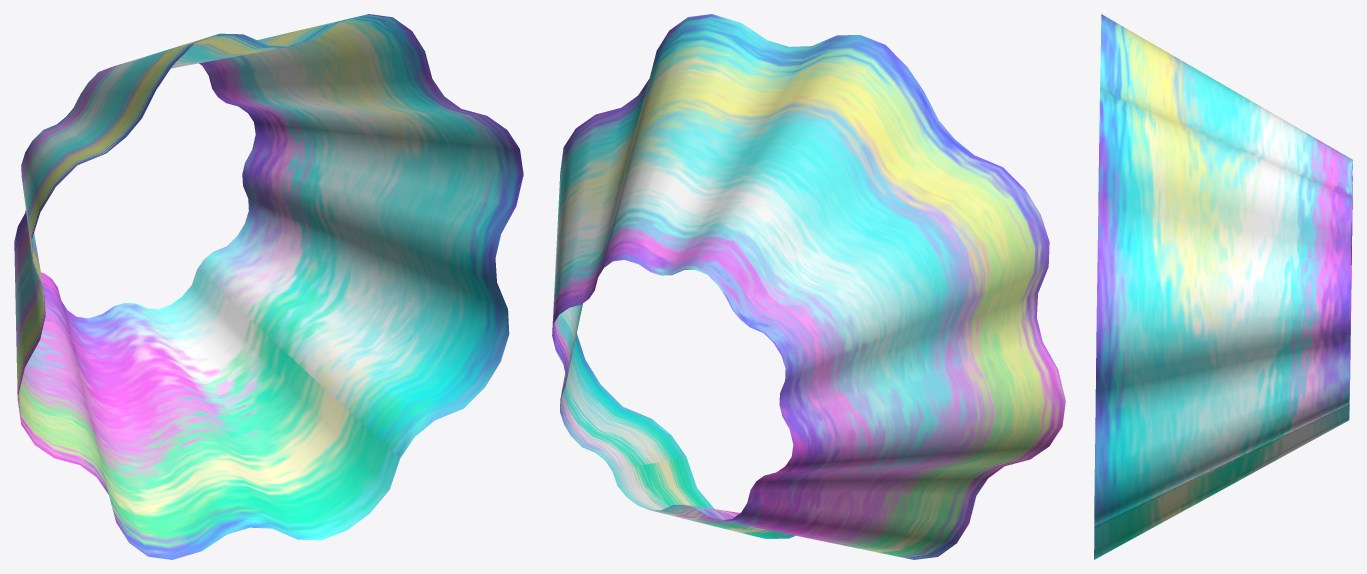
Rendered from skyring1.fbx.
The picture shows the model from 3 angles, left to right: view 1: azimuth 30°, elevation 25°; view 2: azimuth 150°, elevation 25°; view 3: azimuth 270°, elevation 25°; orthographic projection. The views are drawn at different scales.
Visible parts, largest first — view 1: Fountain_of__Dreams.003; view 2: Fountain_of__Dreams.003; view 3: Fountain_of__Dreams.003.
Boxes of the visible parts, <box> form: Fountain_of__Dreams.003: <box>14,14,523,559</box>; Fountain_of__Dreams.003: <box>552,14,1065,559</box>; Fountain_of__Dreams.003: <box>1094,14,1352,559</box>.
Size of the model in its own units: 3259 by 3259 by 1573.
1 material, 1 textured.
